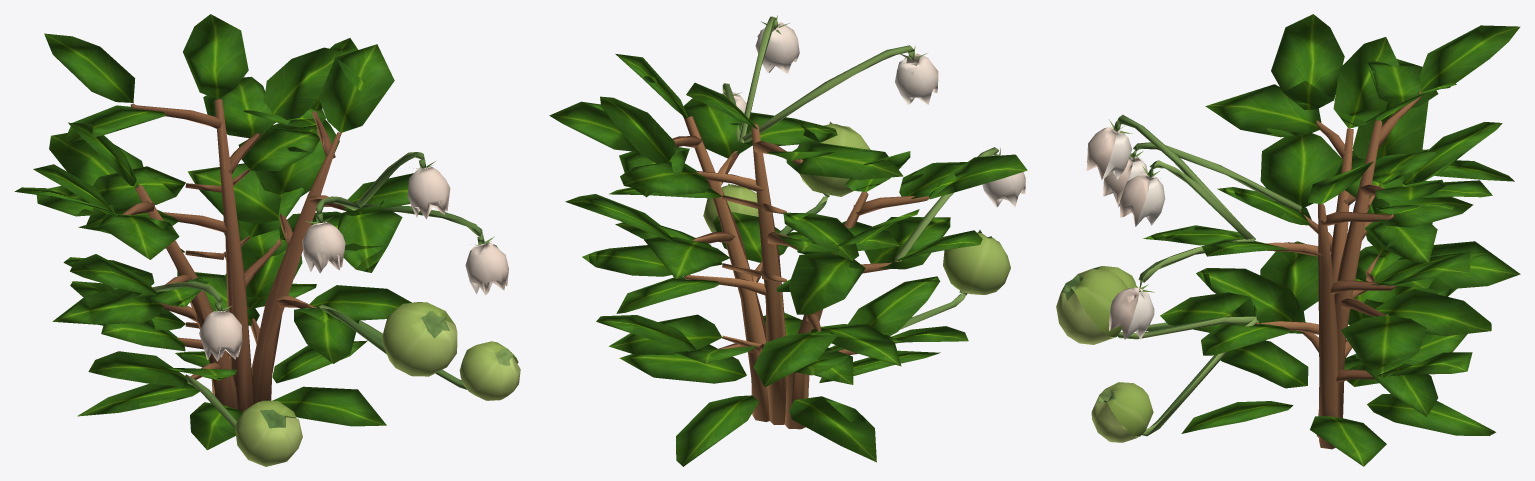
File: NP_Blueberry_Flowering_LOD1.fbx
3 renders of one model, left to right at view 1: azimuth 30°, elevation 25°; view 2: azimuth 150°, elevation 25°; view 3: azimuth 270°, elevation 25°, orthographic.
Parts seen in each view (by area): view 1: NP_Blueberry_Flowering; view 2: NP_Blueberry_Flowering; view 3: NP_Blueberry_Flowering.
Part boxes in pixels (box(x1,y1,x2,y2)): NP_Blueberry_Flowering: box(14, 14, 520, 466); NP_Blueberry_Flowering: box(549, 15, 1027, 466); NP_Blueberry_Flowering: box(1056, 14, 1520, 466).
Size of the model in its own units: 86.24 by 72.26 by 82.96.
